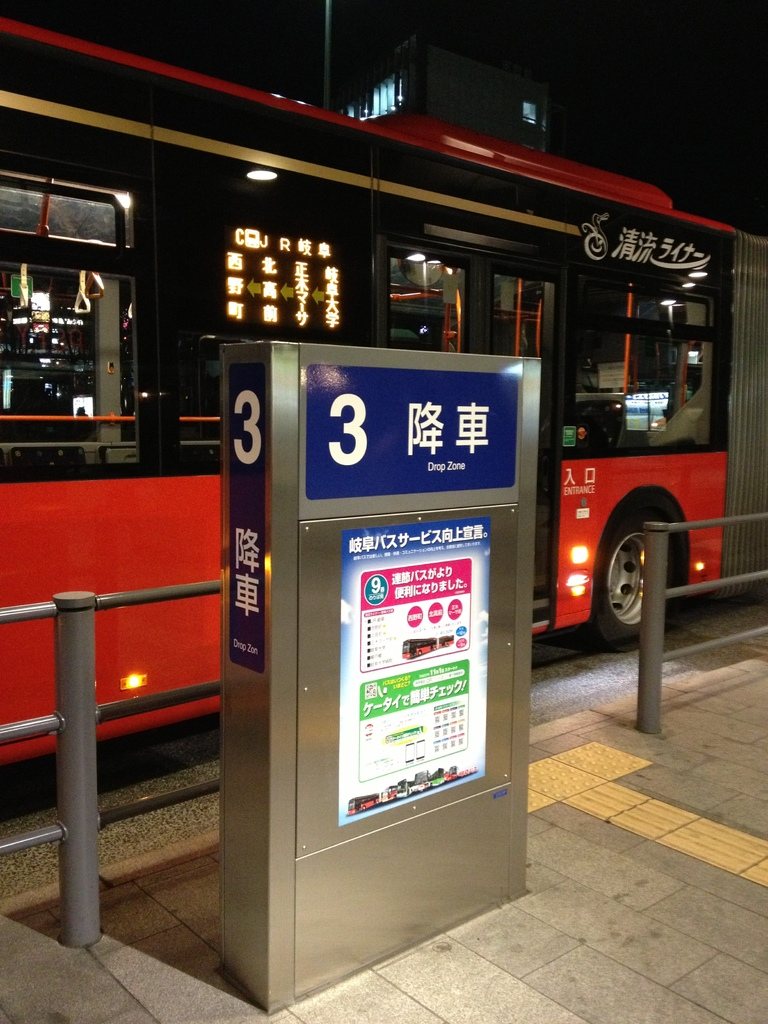Bus: (0, 14, 767, 771)
